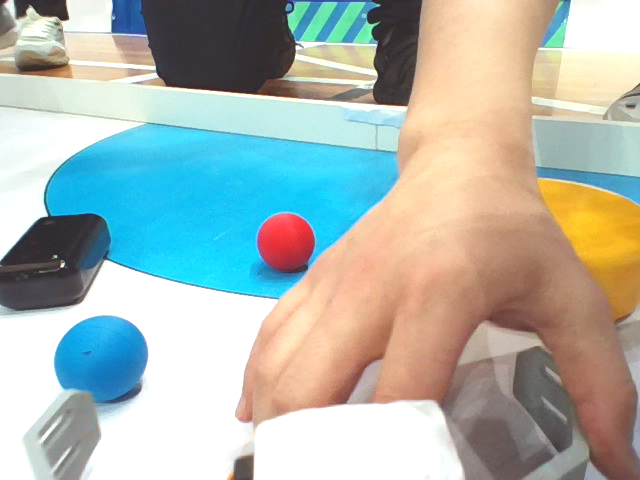black: (1, 187, 122, 315)
blue: (50, 317, 175, 402)
red: (245, 203, 318, 279)
yellow: (495, 157, 640, 344)
